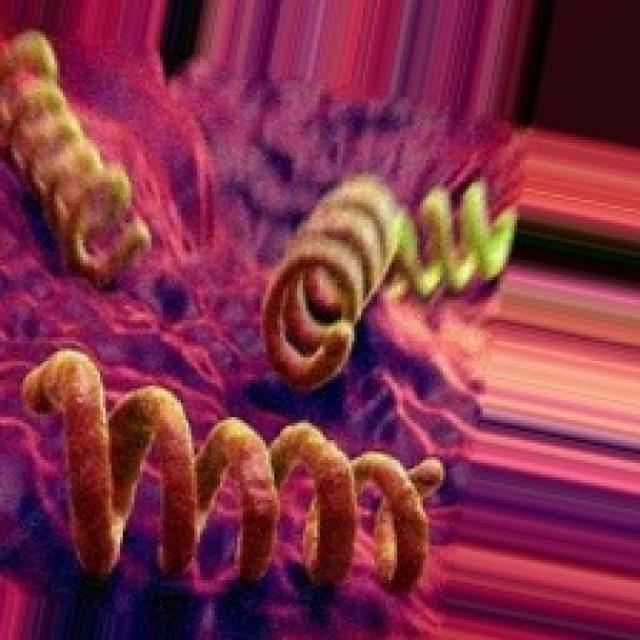Spiral_bacteria: (0, 20, 529, 603), (0, 25, 151, 285)
